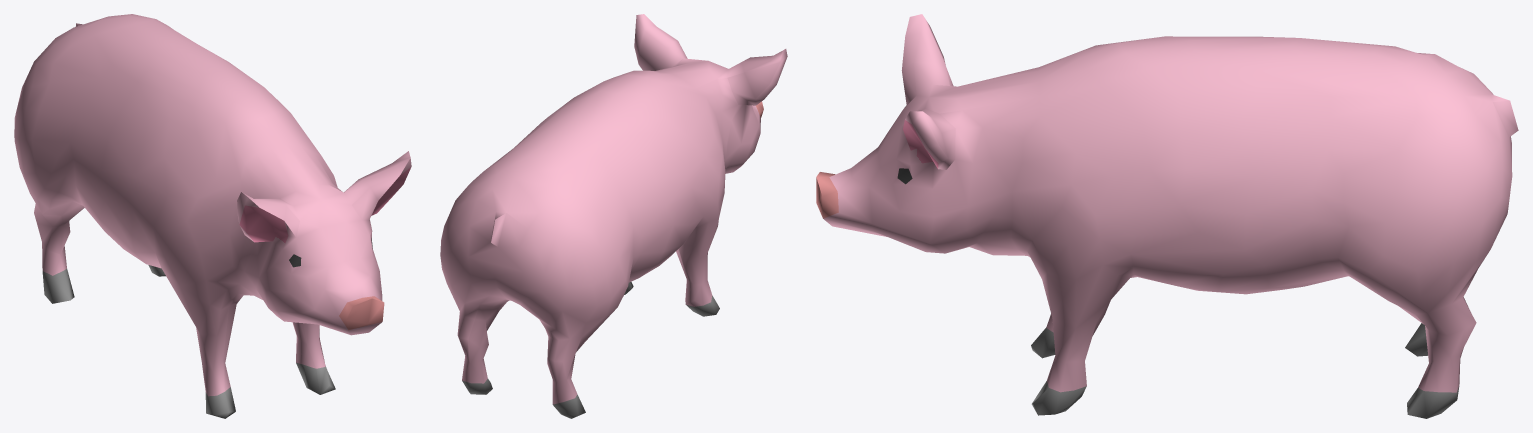
File: pig_003.glb
3 views of the same model, side by side, from view 1: azimuth 30°, elevation 25°; view 2: azimuth 150°, elevation 25°; view 3: azimuth 270°, elevation 25° (orthographic). The views are drawn at different scales.
Parts seen in each view (by area): view 1: pig_003; view 2: pig_003; view 3: pig_003.
Boxes of the visible parts, <box> form: pig_003: <box>14,14,411,418</box>; pig_003: <box>440,14,787,418</box>; pig_003: <box>816,14,1518,418</box>.
Bounding box in the file's own units: 0.6307 × 0.8944 × 1.69.
Materials: 1 (1 with a texture image).
